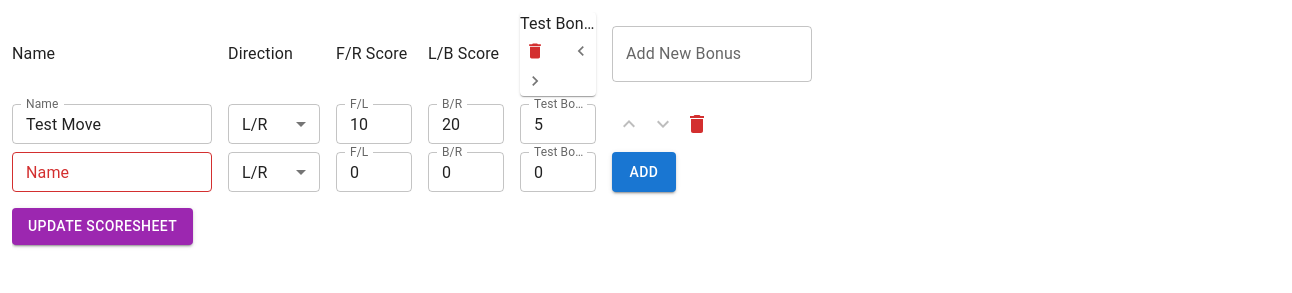
Test: ScoresheetMoves › deletes a bonus type from all moves
Click the button with test id "delete-bonus-Test Bonus" at (535, 51), box top-left (520, 36), bottom-right (550, 66)
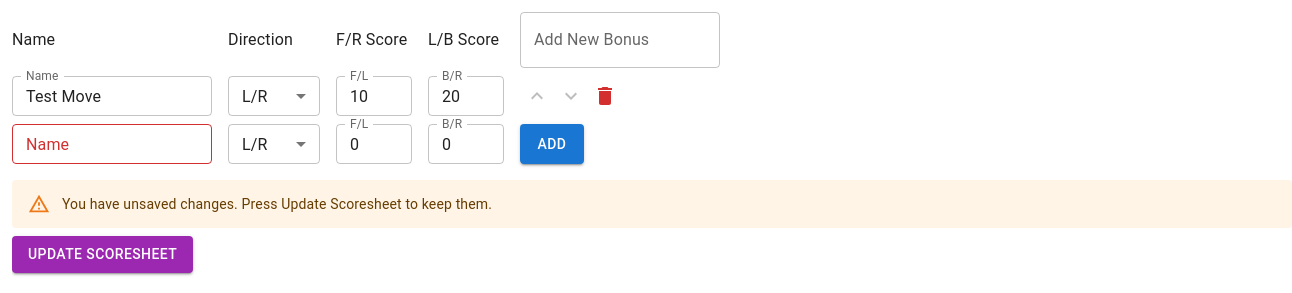
Expected: the field showing "5" is not shown
Expected: the text "Test Bonus" is gone
